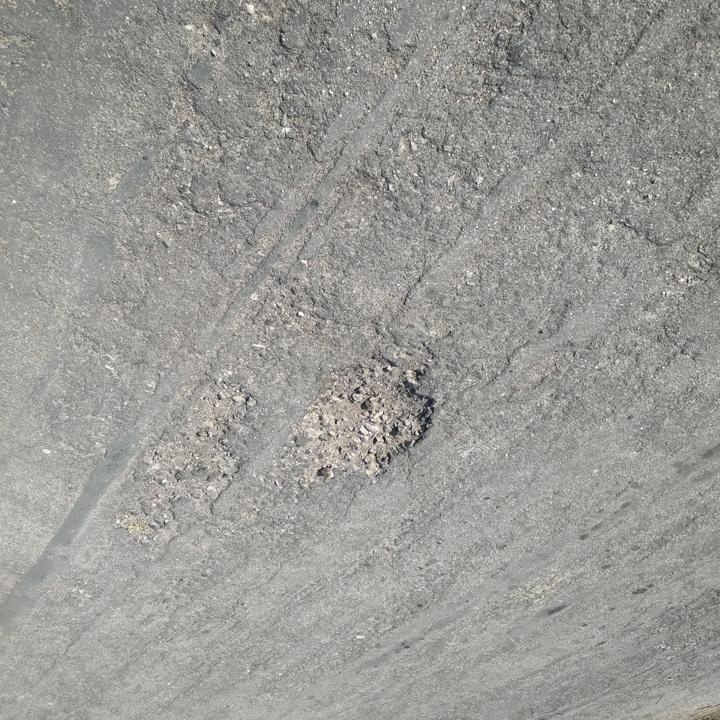pothole: (109, 375, 259, 541), (286, 354, 439, 488)
